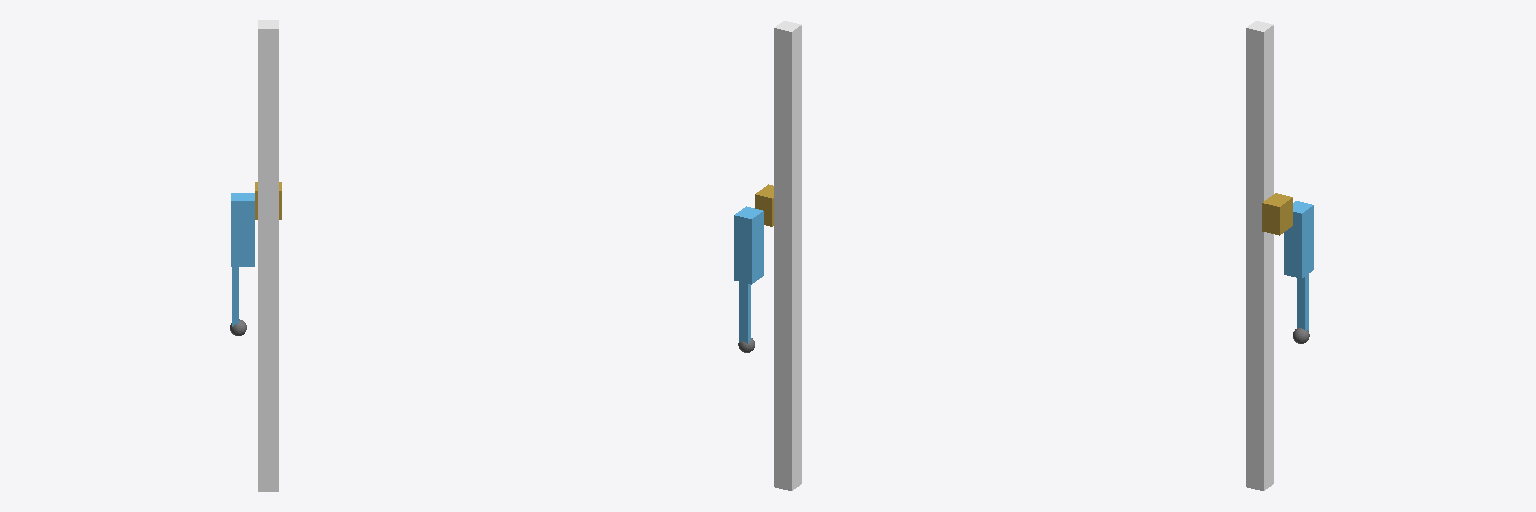
URDF robot description (leg):
<?xml version="1.0" ?>


<robot name="leg" xmlns:xacro="http://www.ros.org/wiki/xacro">


    <gazebo>
        <plugin filename="libgazebo_ros_control.so" name="gazebo_ros_control">
            <robotNamespace>/leg</robotNamespace>
            <robotSimType>
                gazebo_ros_control/DefaultRobotHWSim
            </robotSimType>
        </plugin>
    </gazebo>


    <material name="black">
        <color rgba="0.0 0.0 0.0 1.0"/>
    </material>
    <material name="blue">
        <color rgba="0.0 0.0 0.8 1.0"/>
    </material>
    <material name="green">
        <color rgba="0.0 0.8 0.0 1.0"/>
    </material>
    <material name="grey">
        <color rgba="0.2 0.2 0.2 1.0"/>
    </material>
    <material name="silver">
        <color rgba="0.913725490196 0.913725490196 0.847058823529 1.0"/>
    </material>
    <material name="orange">
        <color rgba="1.0 0.423529411765 0.0392156862745 1.0"/>
    </material>
    <material name="brown">
        <color rgba="0.870588235294 0.811764705882 0.764705882353 1.0"/>
    </material>
    <material name="white_gray">
        <color rgba="0.823529411765 0.823529411765 0.823529411765 1.0"/>
    </material>
    <material name="gold">
        <color rgba="0.811764705882 0.678431372549 0.301960784314 1.0"/>
    </material>
    <material name="white_blue">
        <color rgba="0.462745098039 0.8 0.992156862745 1.0"/>
    </material>
    <material name="white_black">
        <color rgba="0.494117647059 0.494117647059 0.494117647059 1.0"/>
    </material>
    <material name="red">
        <color rgba="0.8 0.0 0.0 1.0"/>
    </material>
    <material name="white">
        <color rgba="1.0 1.0 1.0 1.0"/>
    </material>

    <gazebo refrence="trunk_inertia">
        <mu1>0.9</mu1>
        <mu2>0.9</mu2>
        <material>Gazebo/White</material>
    </gazebo>

    <link name="trunk_inertia">
        <inertial>

        </inertial>
    </link>

    <link name="trunk">
        <visual>
        <origin rpy="0 0 0" xyz="0 0 0.75"/>
        <geometry>
            <box size="0.06 0.06 1.5"/>
        </geometry>
        <material name="white"/>
        </visual>
        <collision>
            <origin rpy="0 0 0" xyz="0 0 0.75"/>
            <geometry>
                <box size="0.06 0.06 1.5"/>
            </geometry>
        </collision>
        <inertial>
            <origin rpy="0 0 0" xyz="0 0 0.75"/>
            <mass value="100"/>
            <inertia ixx="0.011253" ixy="0" ixz="0.0" iyy="0.036203" iyz="-0.0" izz="0.042673"/>
            </inertial>
        </link>

    <joint name="trunk_to_trunk_inertia" type="fixed">
        <origin rpy="0 0 0" xyz="0 0 0"/>
        <parent link="trunk_inertia"/>
        <child link="trunk"/>
    </joint>



   <joint name="hip_joint" type="revolute">
        <origin rpy="0 0 0" xyz="0.03 0 0.9"/>
        <parent link="trunk"/>
        <child link="hip"/>
        <axis xyz="1 0 0"/>
        <dynamics damping="0.1" friction="0.1"/>
        <limit effort="20" lower="-0.872664625997" upper="1.0471975512" velocity="1.6"/>
  </joint>

  <link name="hip">
    <visual>
      <origin rpy="0 0 0" xyz="0.03 0 0"/>
      <geometry>
        <box size="0.06 0.08 0.093"/>
      </geometry>
      <material name="gold"/>
    </visual>
    <collision>
      <origin rpy="0 0 0" xyz="0.03 0 0"/>
      <geometry>
        <box size="0.06 0.08 0.093"/>
      </geometry>
    </collision>
    <inertial>
      <origin rpy="0 0 0" xyz="0.03 0 0.0"/>
      <mass value="0.63"/>
      <inertia ixx="0.0007148275" ixy="0.0" ixz="0.0" iyy="0.0007955775" iyz="0.0" izz="0.00068875"/>
    </inertial>

  </link>

    <joint name="thigh_joint" type="revolute">
    <origin rpy="0 0 0" xyz="0.06 0.015 0"/>
    <parent link="hip"/>
    <child link="thigh"/>
    <axis xyz="0 1 0"/>
    <dynamics damping="0.1" friction="0.1" />
    <limit effort="20" lower="-0.523598775598" upper="3.92699081699" velocity="1.6"/>
  </joint>

  <link name="thigh">
    <visual>
      <origin rpy="0 0 0" xyz="0 0.06 -0.10655"/>
      <geometry>
        <box size="0.06 0.07125 0.2131"/>
      </geometry>
      <material name="white_blue"/>
    </visual>
    <collision>
      <origin rpy="0 0 0" xyz="0 0.06 -0.10655"/>
      <geometry>
        <box size="0.06 0.07125 0.2131"/>
      </geometry>
      <material name="white_blue"/>
    </collision>
    <inertial>
      <origin rpy="0 0 0" xyz="0 0.06 -0.10655"/>
      <mass value="1.062"/>
      <inertia ixx="0.00261820866667" ixy="0.0" ixz="0.0" iyy="0.00265482216667" iyz="0.0" izz="0.000158764166667"/>
    </inertial>
  </link>
  <!-- //////////////////////calf//////////////////// -->
  <joint name="calf_joint" type="revolute">
    <origin rpy="0 0 0" xyz="0 0.07125 -0.2131"/>
<!--    <origin rpy="0 0 0" xyz="0 0.01 -0.1881"/>-->
    <parent link="thigh"/>
    <child link="calf"/>
    <axis xyz="0 1 0"/>
    <dynamics damping="0.1" friction="0.1"/>
    <limit effort="20" lower="-3.14159265359" upper="3.14159265359" velocity="1.6"/>
  </joint>
  <link name="calf">
    <visual>
      <origin rpy="0 0 0" xyz="0.0 0.01 -0.10574"/>
      <geometry>
        <box size="0.03 0.02 0.21148"/>
          <!--mesh filename="package://first_leg/mesh/calf.dae" scale="1 1 1"/-->
      </geometry>
      <material name="white_blue"/>
    </visual>
    <collision>
      <origin rpy="0 0 0" xyz="0.0 0.01 -0.10574"/>
      <geometry>
          <box size="0.03 0.02 0.21148"/>
        <!--mesh filename="package://first_leg/mesh/Sim_0_00_04.STL" scale="1 1 1"/-->
      </geometry>
    </collision>
    <inertial>
      <origin rpy="0 0 0" xyz="0.0 0.0 -0.10574"/>
      <mass value="0.133"/>
      <inertia ixx="0.000214698666667" ixy="0.0" ixz="0.0" iyy="0.000214698666667" iyz="0.0" izz="2.73066666667e-06"/>
    </inertial>
  </link>
  <!-- //////////////////////foot//////////////////// -->
  <joint name="foot_fixed" type="fixed">
    <origin rpy="0 0 0" xyz="0 0 -0.21148"/>
<!--    <origin rpy="0 0 0" xyz="0 0.01 -0.1881"/>-->
    <parent link="calf"/>
    <child link="foot"/>
    <axis xyz="0 1 0"/>
    <dynamics damping="0.1" friction="0.1"/>
    <limit effort="20" lower="-3.14159265359" upper="3.14159265359" velocity="10.6"/>
  </joint>

  <link name="foot">
    <visual>
      <origin rpy="0 0 0" xyz="0 0.002 0"/>
      <geometry>
        <sphere radius="0.025"/>
      </geometry>
      <material name="white_black"/>
    </visual>
    <collision>
      <origin rpy="0 0 0" xyz="0 0.002 0"/>
      <geometry>
        <sphere radius="0.025"/>
      </geometry>
    </collision>
    <inertial>
      <origin rpy="0 0 0" xyz="0 0.002 0"/>
      <mass value="0.05"/>
      <inertia ixx="4.2135e-05" ixy="0.0" ixz="0.0" iyy="4.2135e-05" iyz="0.0" izz="4.2135e-05"/>
    </inertial>
  </link>

  <!--/////////////// transmission tags ////////////////////// -->

<!--    <transmission name="jump_trans">-->
<!--    <type>transmission_interface/SimpleTransmission</type>-->
<!--    <joint name="jumper">-->
<!--      <hardwareInterface>hardware_interface/EffortJointInterface</hardwareInterface>-->
<!--    </joint>-->
<!--    <actuator name="jump_motor">-->
<!--      <hardwareInterface>hardware_interface/EffortJointInterface</hardwareInterface>-->
<!--      <mechanicalReduction>1</mechanicalReduction>-->
<!--    </actuator>-->
<!--  </transmission>-->
  <transmission name="hip_tran">
    <type>transmission_interface/SimpleTransmission</type>
    <joint name="hip_joint">
      <hardwareInterface>hardware_interface/EffortJointInterface</hardwareInterface>
    </joint>
    <actuator name="hip_motor">
      <hardwareInterface>hardware_interface/EffortJointInterface</hardwareInterface>
      <mechanicalReduction>1</mechanicalReduction>
    </actuator>
  </transmission>
  <transmission name="thigh_tran">
    <type>transmission_interface/SimpleTransmission</type>
    <joint name="thigh_joint">
      <hardwareInterface>hardware_interface/EffortJointInterface</hardwareInterface>
    </joint>
    <actuator name="thigh_motor">
      <hardwareInterface>hardware_interface/EffortJointInterface</hardwareInterface>
      <mechanicalReduction>1</mechanicalReduction>
    </actuator>
  </transmission>
  <transmission name="calf_tran">
    <type>transmission_interface/SimpleTransmission</type>
    <joint name="calf_joint">
      <hardwareInterface>hardware_interface/EffortJointInterface</hardwareInterface>
    </joint>
    <actuator name="calf_motor">
      <hardwareInterface>hardware_interface/EffortJointInterface</hardwareInterface>
      <mechanicalReduction>1</mechanicalReduction>
    </actuator>
  </transmission>
</robot>

--- What the picture shows (computed from the rendered views, not written in the file) ---
Views: 3 orthographic renders of the robot side by side, from view 1: azimuth 90°, elevation 25°; view 2: azimuth 150°, elevation 25°; view 3: azimuth 330°, elevation 25°.
Robot: leg — 6 links, 5 joints (3 revolute, 2 fixed); root link trunk_inertia; default pose: every joint at zero.
Links seen in each view (by area): view 1: trunk, thigh; view 2: trunk, thigh, calf, hip; view 3: trunk, thigh, hip, calf.
Boxes of the visible links, <box> form: trunk: <box>258,20,278,491</box>; thigh: <box>231,193,254,266</box>; trunk: <box>774,21,801,490</box>; thigh: <box>734,206,763,284</box>; calf: <box>739,282,750,343</box>; hip: <box>755,184,773,226</box>; trunk: <box>1246,21,1273,490</box>; thigh: <box>1284,201,1313,278</box>; hip: <box>1262,193,1292,235</box>; calf: <box>1297,274,1308,330</box>.
Size in the robot's own frame: 0.15 by 0.1533 by 1.5 metres.
Geometry: primitives only (box / cylinder / sphere), no mesh files.